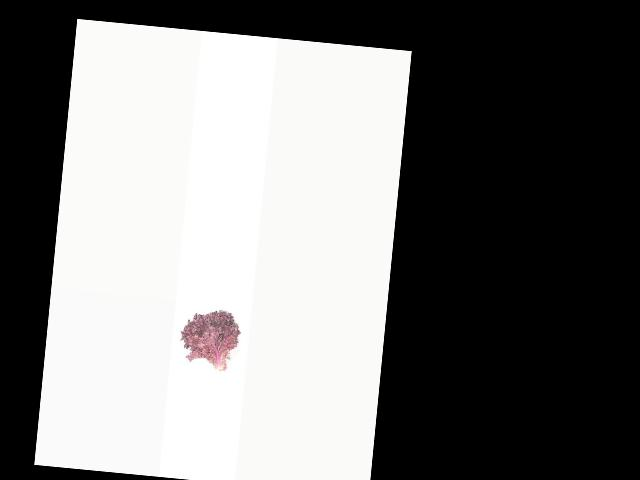lettuce: (175, 303, 240, 378)
